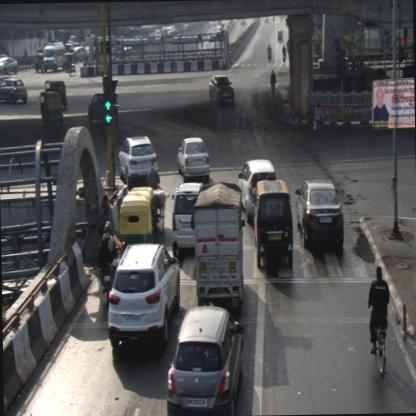bus: (42, 38, 68, 72)
car: (164, 305, 244, 415), (107, 243, 181, 351), (293, 179, 343, 252), (255, 172, 292, 270), (170, 180, 204, 256), (238, 156, 275, 224), (119, 132, 158, 186), (176, 136, 210, 180), (90, 95, 119, 127), (0, 77, 28, 106), (209, 74, 234, 104), (0, 56, 20, 77)
motorcycle: (367, 262, 392, 378), (102, 220, 122, 297), (280, 43, 288, 64), (267, 42, 272, 60)
truck: (195, 179, 246, 309)
